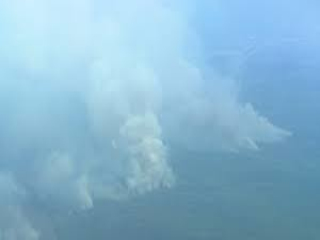smoke: (56, 33, 301, 205), (3, 149, 117, 239)
